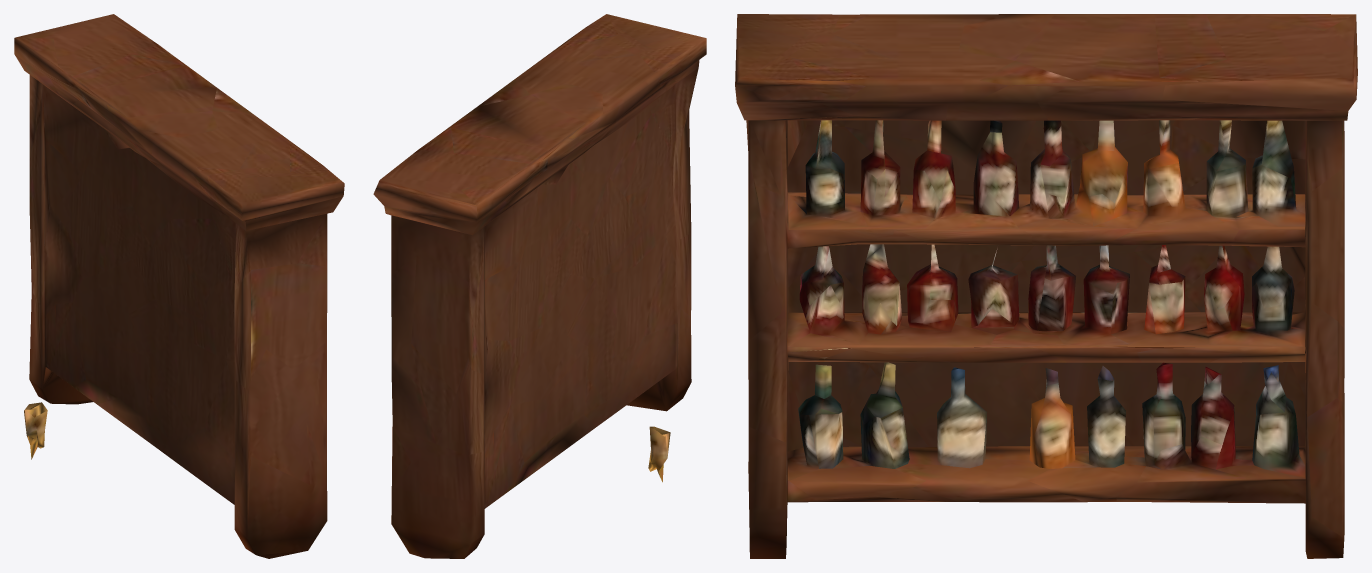
Rendered from 酒瓶陈列架.glb.
3 views of the same model, side by side, from view 1: azimuth 30°, elevation 25°; view 2: azimuth 150°, elevation 25°; view 3: azimuth 270°, elevation 25° (orthographic). The views are drawn at different scales.
Parts seen in each view (by area): view 1: tripo_node_52456307-3302-499a-af94-e5c7319ed62b; view 2: tripo_node_52456307-3302-499a-af94-e5c7319ed62b; view 3: tripo_node_52456307-3302-499a-af94-e5c7319ed62b.
Part boxes in pixels (x1=…): tripo_node_52456307-3302-499a-af94-e5c7319ed62b: x1=14, y1=14, x2=344, y2=558; tripo_node_52456307-3302-499a-af94-e5c7319ed62b: x1=373, y1=14, x2=706, y2=558; tripo_node_52456307-3302-499a-af94-e5c7319ed62b: x1=735, y1=14, x2=1357, y2=558.
Bounding box in the file's own units: 0.482 × 0.8851 × 0.9999.
Materials: 1 (1 with a texture image).
